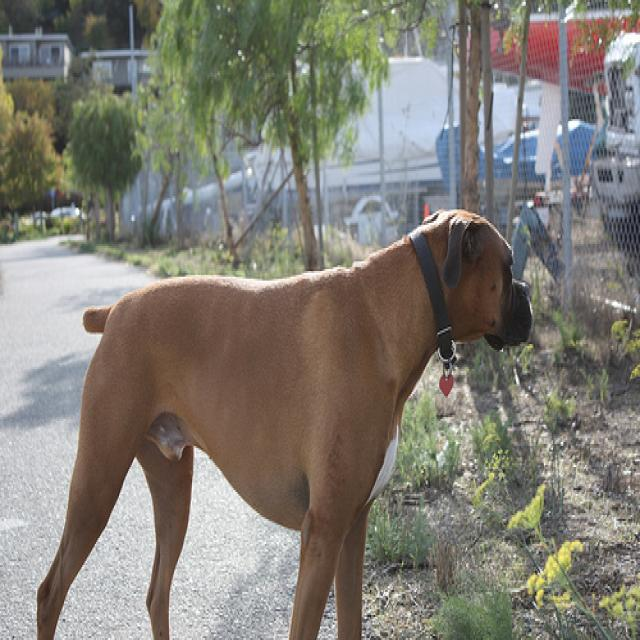dog-boxer: (29, 202, 536, 636)
